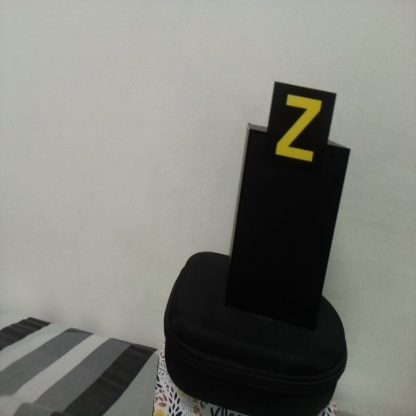id_15: (274, 84, 329, 175)
